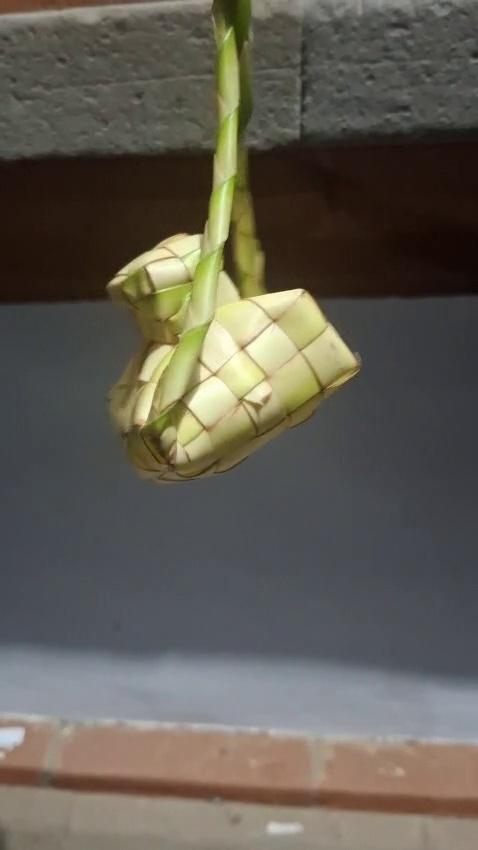Tipat Gong: (96, 2, 372, 490)
